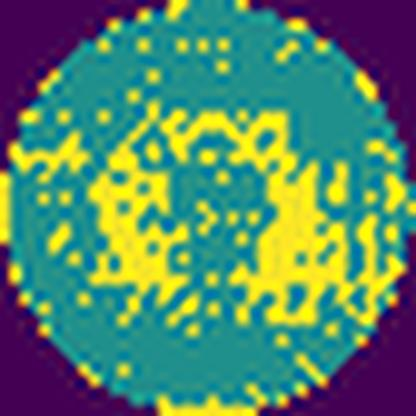Donut: (88, 86, 358, 335)
